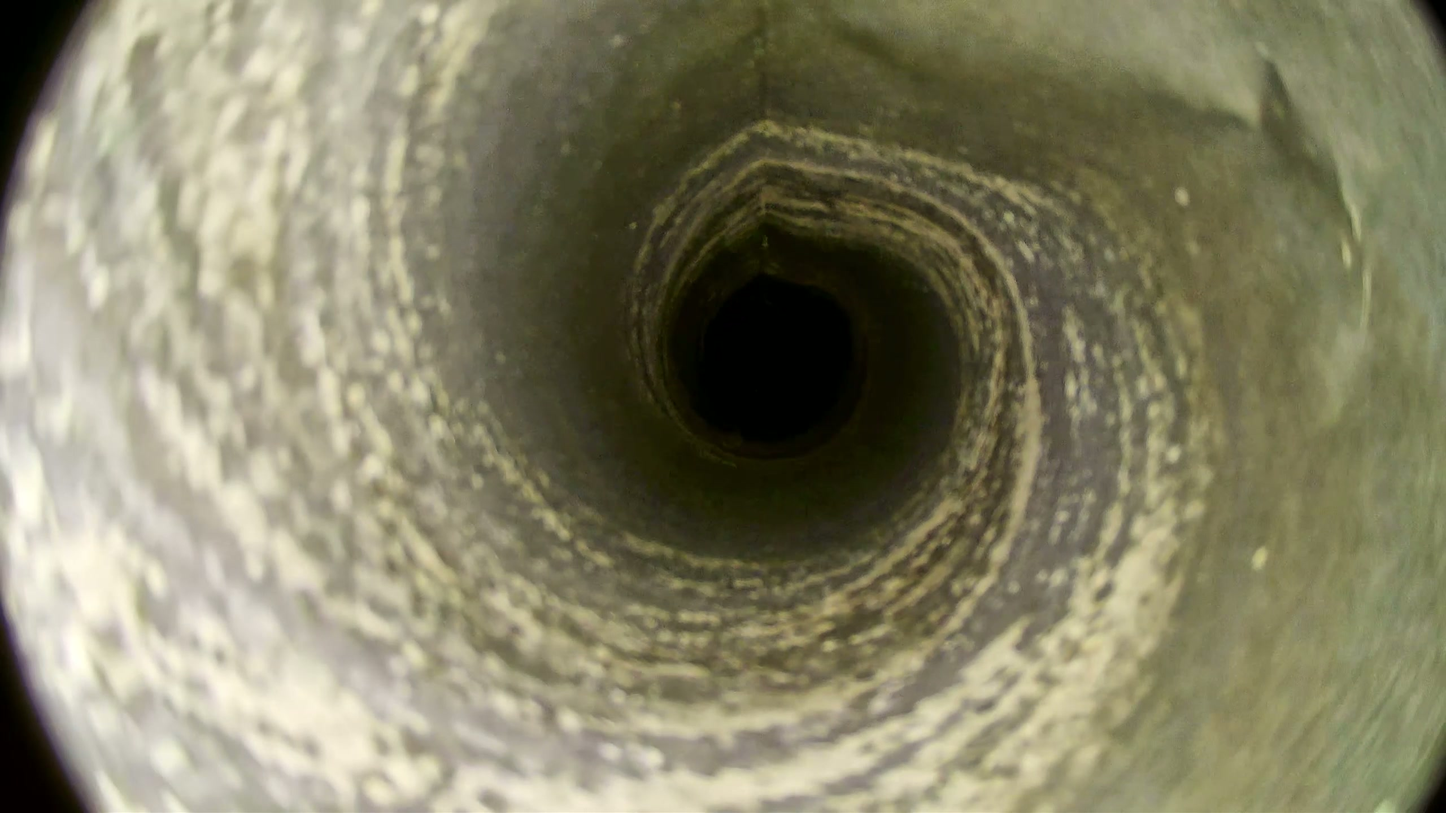hole: (704, 286, 850, 432)
